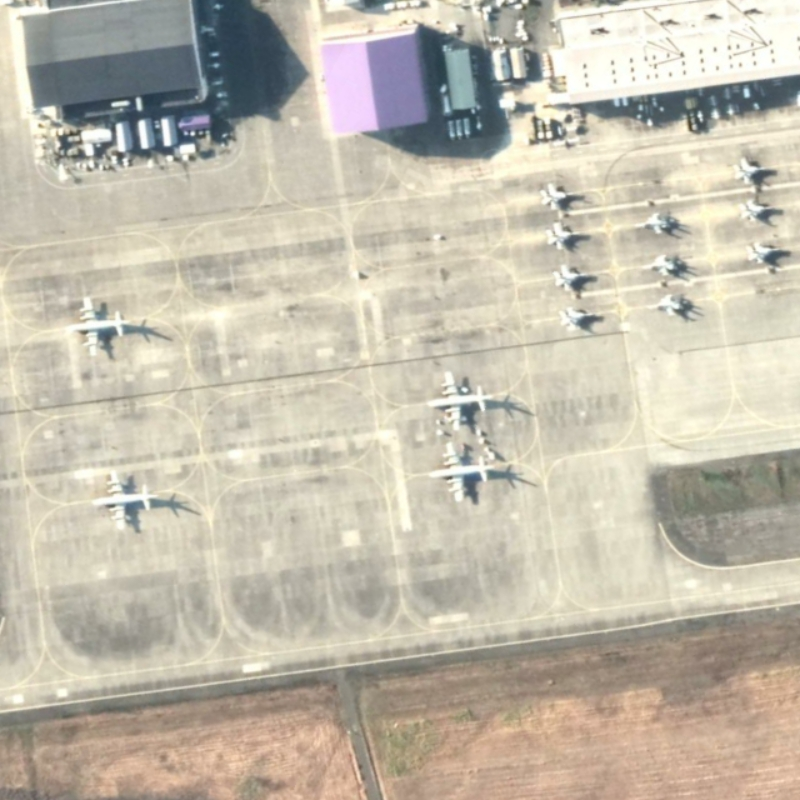A16: (535, 177, 587, 216), (743, 234, 792, 271), (731, 153, 781, 189), (630, 206, 677, 243), (733, 195, 784, 229), (541, 218, 589, 254), (550, 262, 598, 298), (555, 301, 604, 336), (633, 248, 683, 282), (641, 289, 689, 321)
A9: (85, 461, 164, 533), (423, 433, 495, 507), (59, 293, 134, 360), (422, 366, 496, 433)
